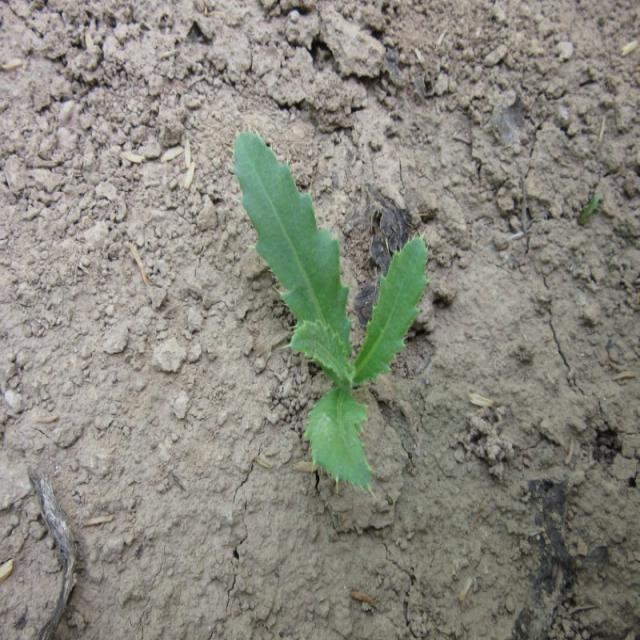cs: (230, 123, 434, 500)
